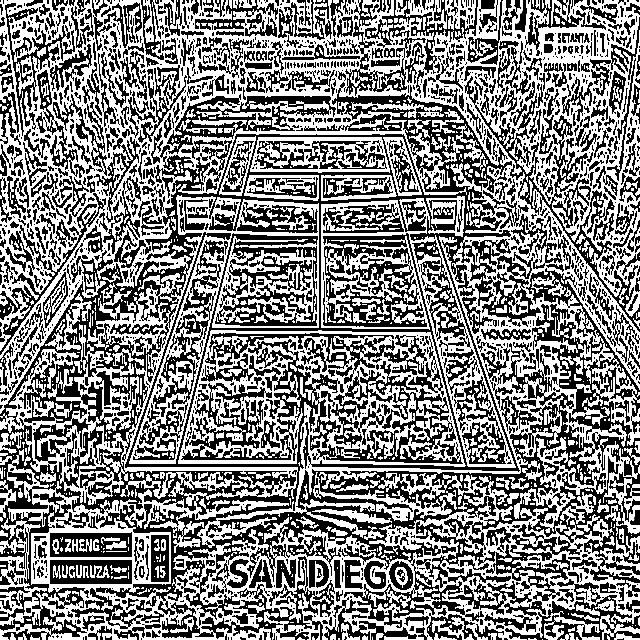left side: (382, 134, 518, 470), (125, 134, 258, 466)
player: (288, 400, 320, 512), (326, 76, 340, 128)
